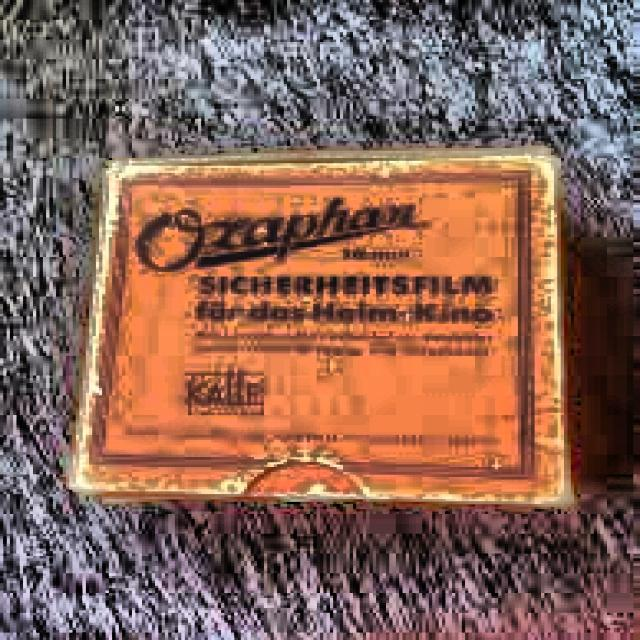Cardbox: (60, 129, 606, 522)
